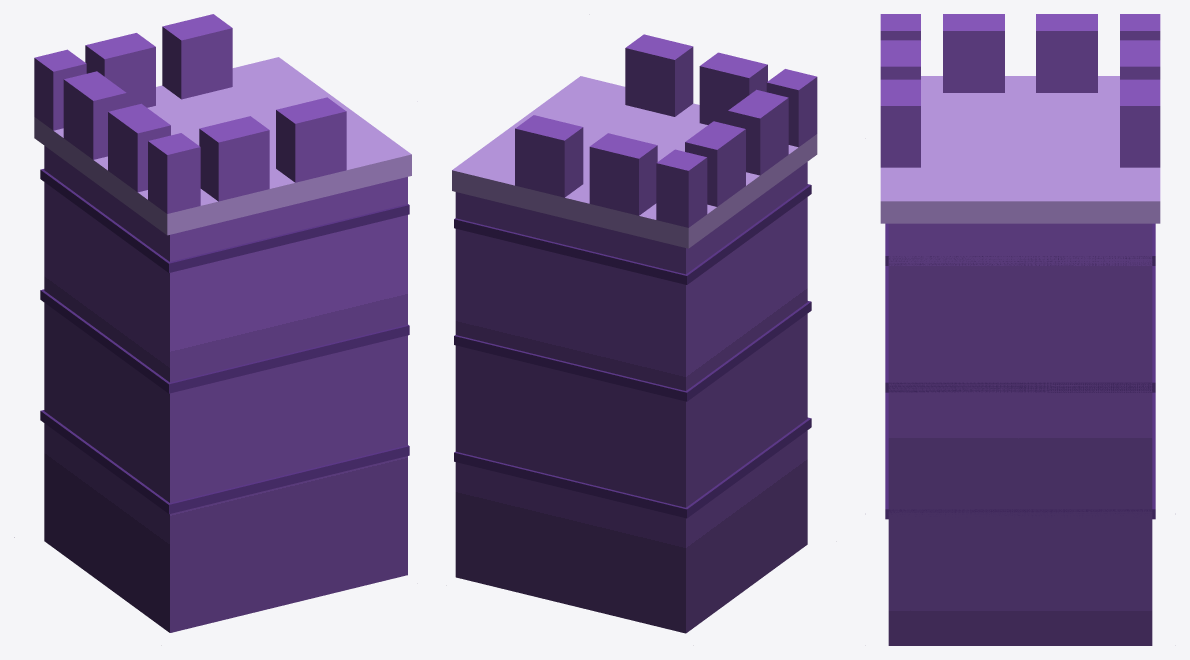
Rendered from perimeter_wall_crystal_end.glb.
The picture shows the model from 3 angles, left to right: view 1: azimuth 30°, elevation 25°; view 2: azimuth 150°, elevation 25°; view 3: azimuth 270°, elevation 25°; orthographic projection. The views are drawn at different scales.
Bounding box in the file's own units: 2.01 × 3.6 × 2.
Materials: 1 (1 with a texture image).
